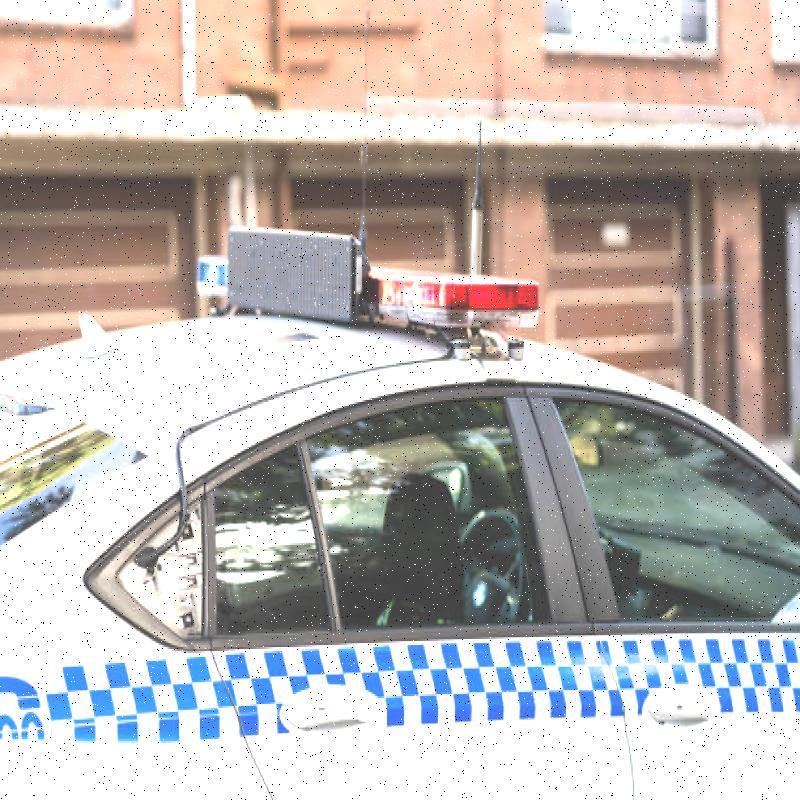AmbulanceSiren: (168, 240, 558, 343)
